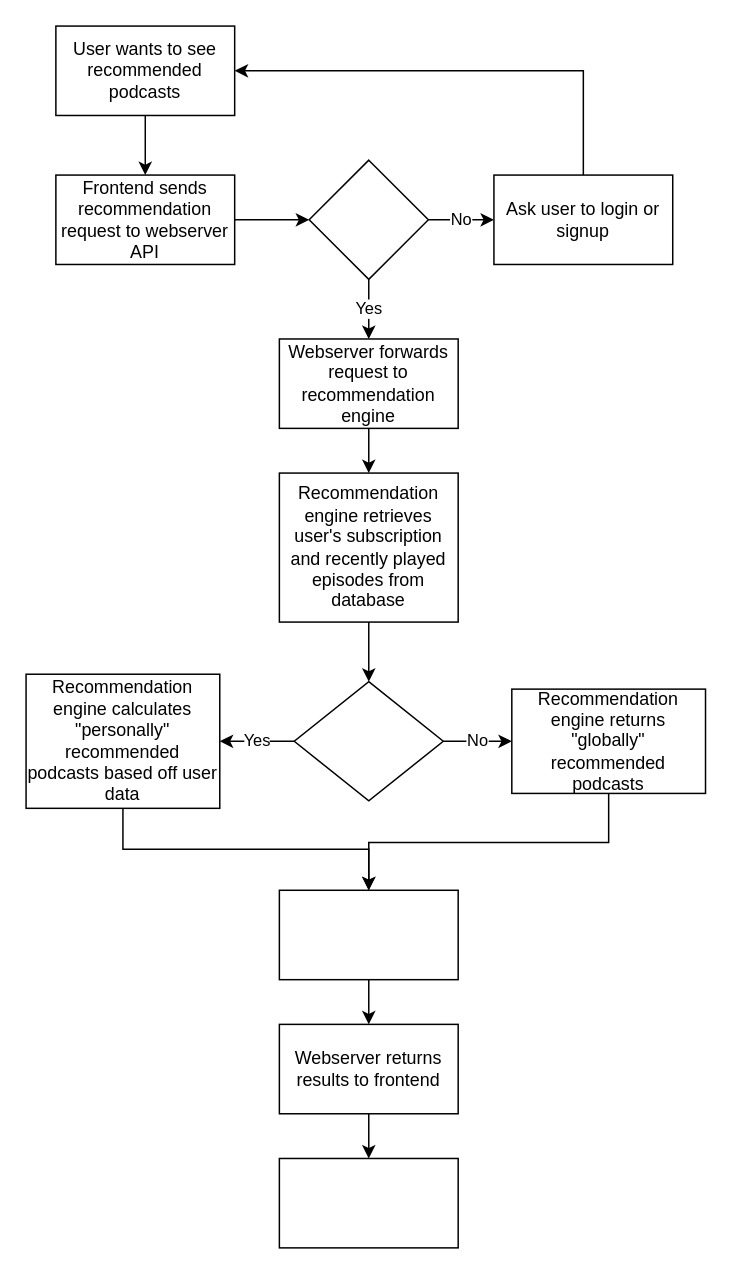
Image size: 732x1274. Some labels were removed from this diagram. The box of each missing label's shape, as (x1, y1, x2, y2) in pixels:
Logged in?: (308, 159, 428, 279)
Recommendation engine returns results to webserver: (278, 889, 458, 980)
Sufficient user data available?: (293, 680, 443, 801)
User views recommendations: (278, 1157, 458, 1248)
